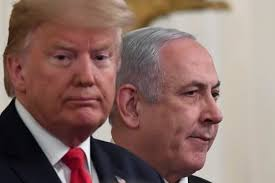middle_eastern_male: (145, 37, 230, 170)
